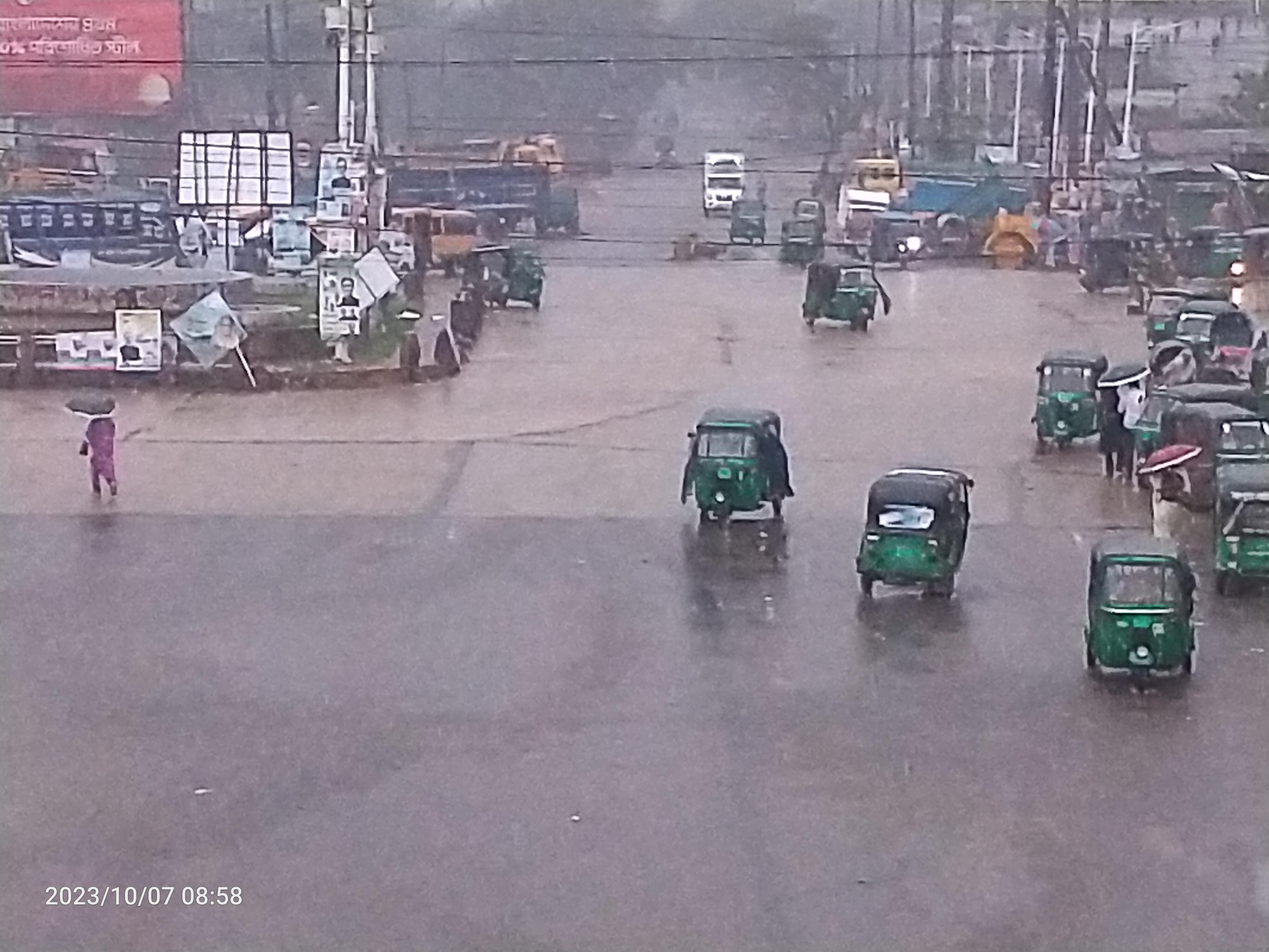Bus: (0, 168, 204, 288)
Car: (687, 130, 771, 234)
